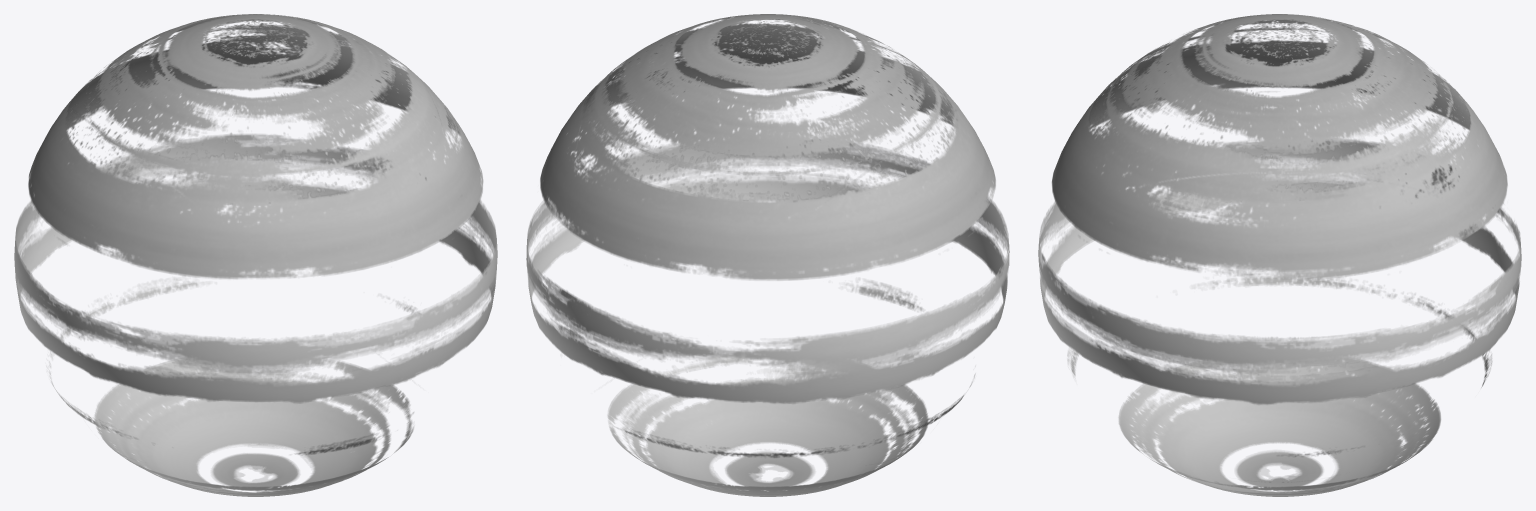
File: saturn_clouds.obj
3 views of the same model, side by side, from view 1: azimuth 30°, elevation 25°; view 2: azimuth 150°, elevation 25°; view 3: azimuth 270°, elevation 25° (orthographic).
Bounding box in the file's own units: 2.09 × 2.09 × 2.09.
1 material, 1 textured.
